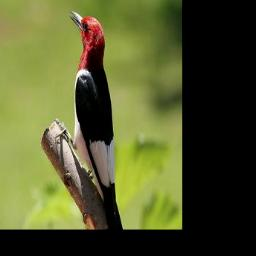Woodpecker: (65, 6, 125, 229)
